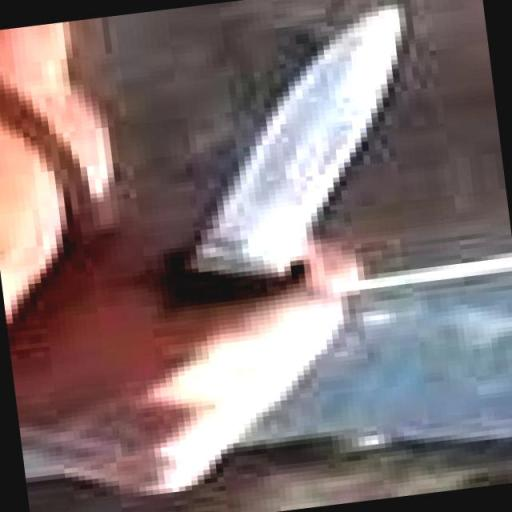knife: (50, 0, 492, 446)
